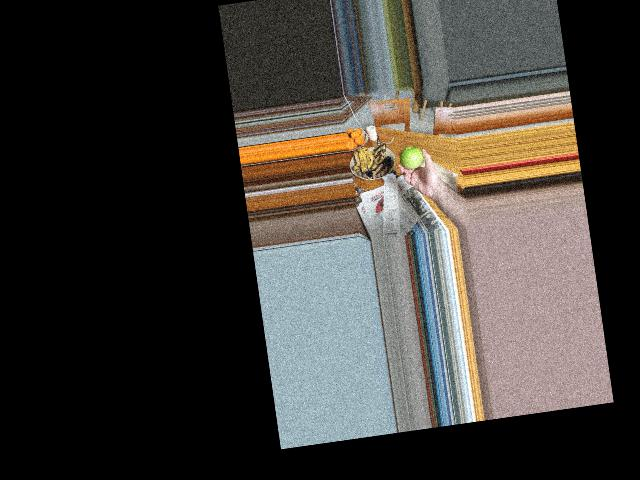apple: (397, 142, 426, 172)
